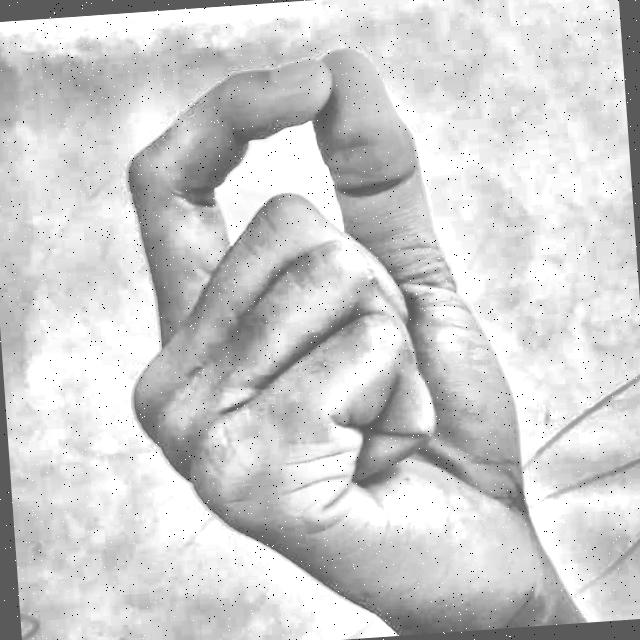Gha: (78, 17, 591, 640)
